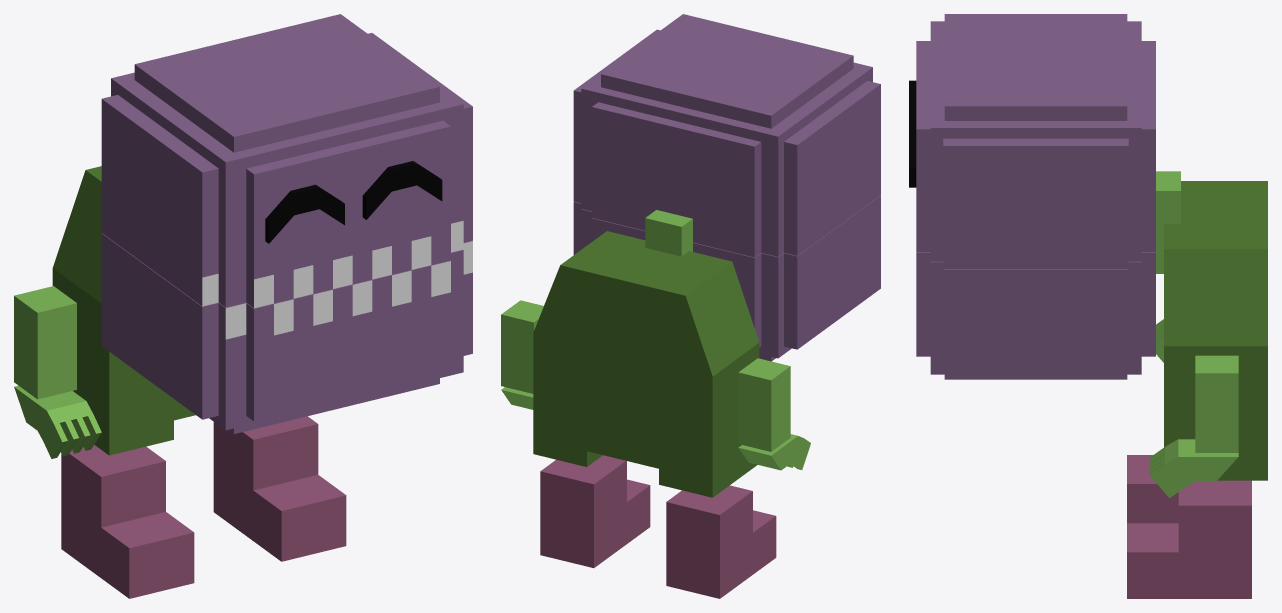
File: Boss2_revision.fbx
The picture shows the model from 3 angles, left to right: view 1: azimuth 30°, elevation 25°; view 2: azimuth 150°, elevation 25°; view 3: azimuth 270°, elevation 25°; orthographic projection. The views are drawn at different scales.
Parts seen in each view (by area): view 1: Cube.045, Cube.046, Cube.049, Cube.056, Cube.048, Cube.052, Cube.051, Cube.050; view 2: Cube.045, Cube.048, Cube.046, Cube.049, Cube.056, Cube.052, Cube.038, Cube.047, Cube.050; view 3: Cube.045, Cube.046, Cube.048, Cube.056, Cube.038, Cube.039, Cube.049, Cube.047, Cube.051.
Part boxes in pixels (bbox=[...]): Cube.045: bbox=[101, 14, 472, 308]; Cube.046: bbox=[101, 233, 472, 433]; Cube.049: bbox=[61, 444, 194, 598]; Cube.056: bbox=[213, 416, 346, 561]; Cube.048: bbox=[52, 166, 195, 455]; Cube.052: bbox=[14, 286, 76, 399]; Cube.051: bbox=[265, 161, 442, 243]; Cube.050: bbox=[14, 385, 101, 458]; Cube.045: bbox=[573, 14, 880, 257]; Cube.048: bbox=[533, 231, 759, 497]; Cube.046: bbox=[573, 195, 880, 361]; Cube.049: bbox=[666, 485, 776, 598]; Cube.056: bbox=[540, 455, 650, 567]; Cube.052: bbox=[738, 358, 790, 451]; Cube.038: bbox=[501, 300, 543, 393]; Cube.047: bbox=[645, 210, 692, 256]; Cube.050: bbox=[738, 434, 810, 470]; Cube.045: bbox=[916, 14, 1155, 268]; Cube.046: bbox=[916, 252, 1155, 379]; Cube.048: bbox=[1164, 181, 1267, 480]; Cube.056: bbox=[1127, 480, 1251, 598]; Cube.038: bbox=[1195, 355, 1238, 452]; Cube.039: bbox=[1149, 439, 1238, 498]; Cube.049: bbox=[1127, 455, 1178, 523]; Cube.047: bbox=[1156, 171, 1180, 273]; Cube.051: bbox=[909, 80, 916, 187].
Size of the model in its own units: 479 by 748 by 496.
